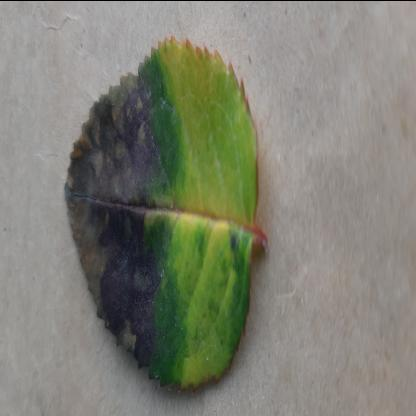powdery-mildew: (66, 28, 262, 392)
